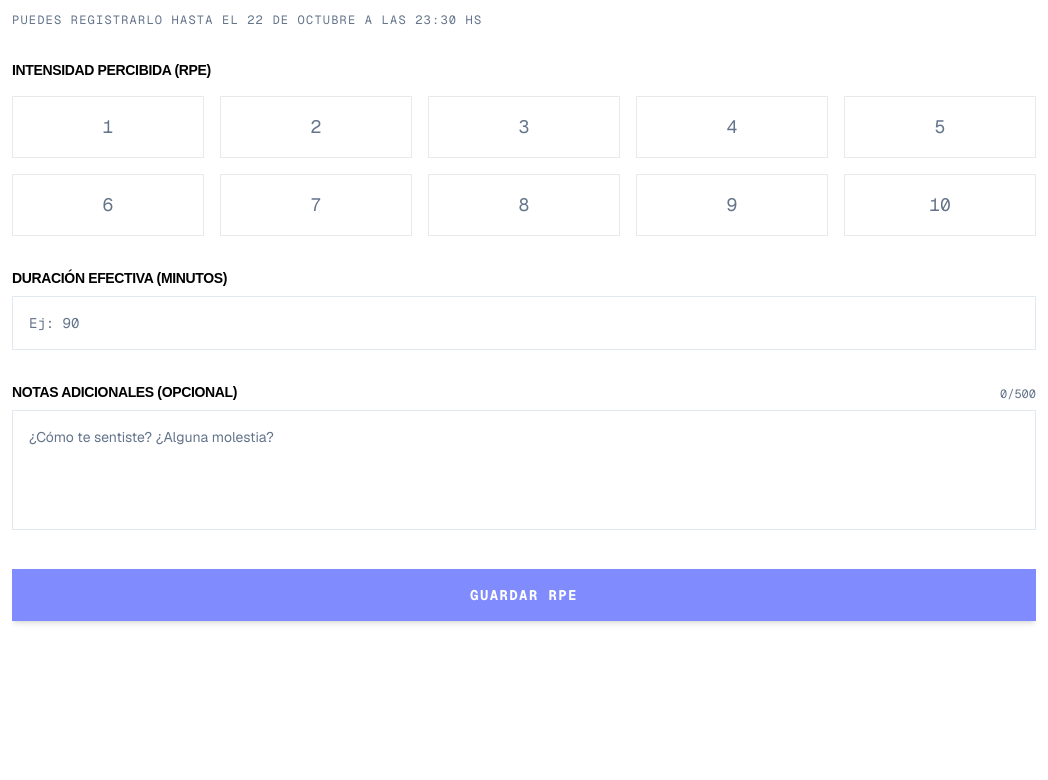
Scenario: RpeForm — modo enlace › 409 ALREADY_RECORDED → mensaje
Click the button "7".
click(316, 205)  # box [220,174,412,236]
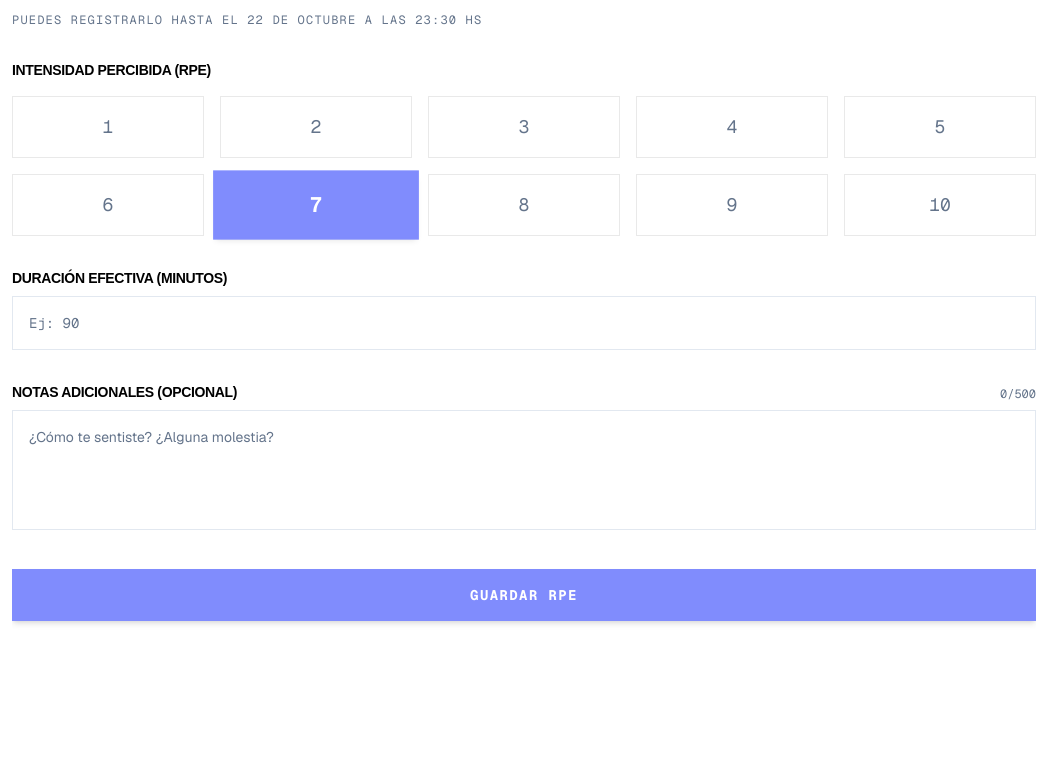
Type "60" into the number field labelled "Duración efectiva (minutos)".
click(524, 323); type("60")  # box [12,296,1036,350]
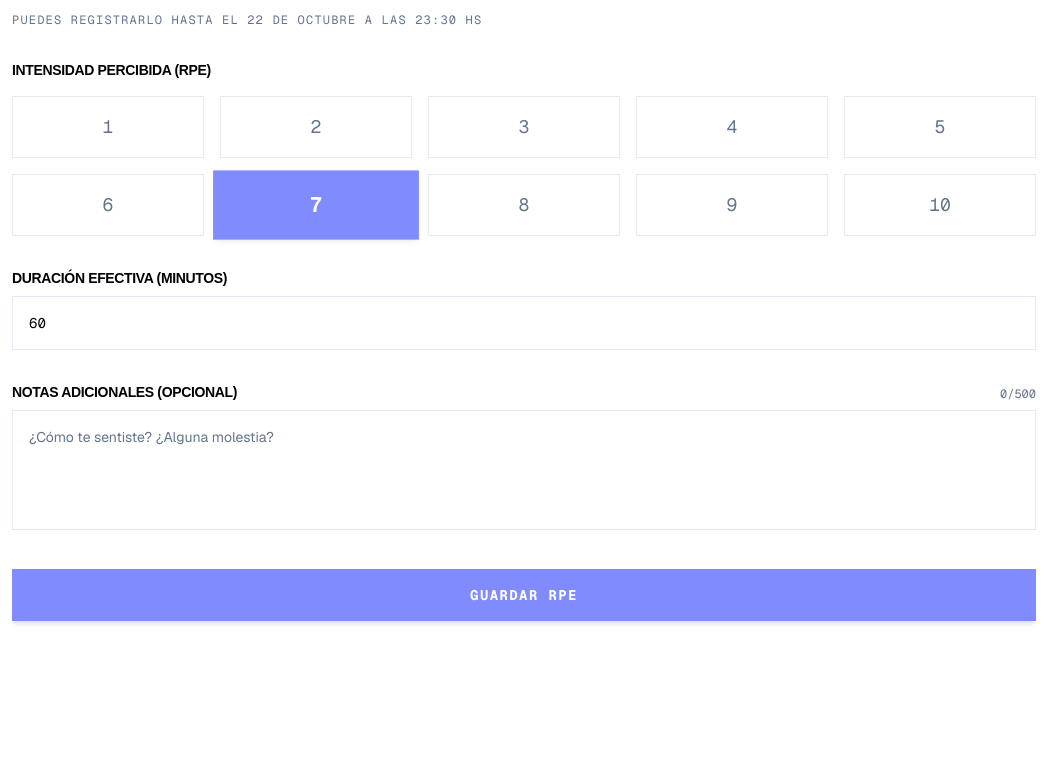
Click the button "Guardar RPE".
click(524, 595)  # box [12,569,1036,621]
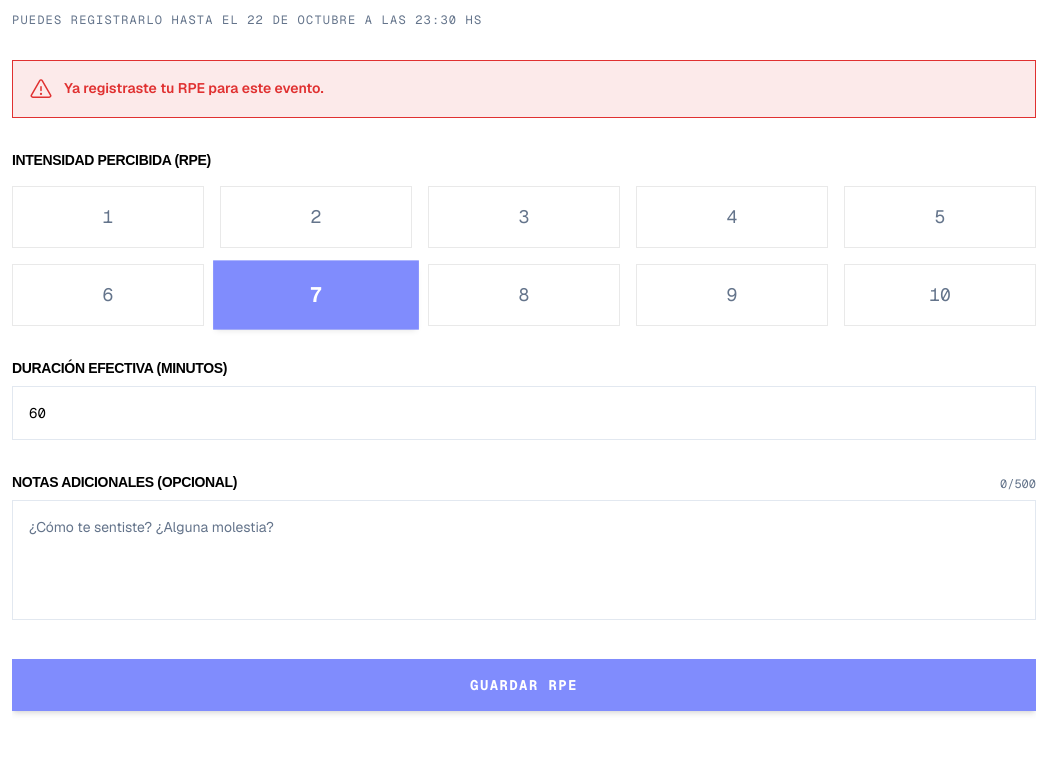
Expected: the button "Guardar RPE" is shown, [12,659,1036,711]
Result: the text "Ya registraste tu RPE para este evento." is shown at [12,60,1036,118]
